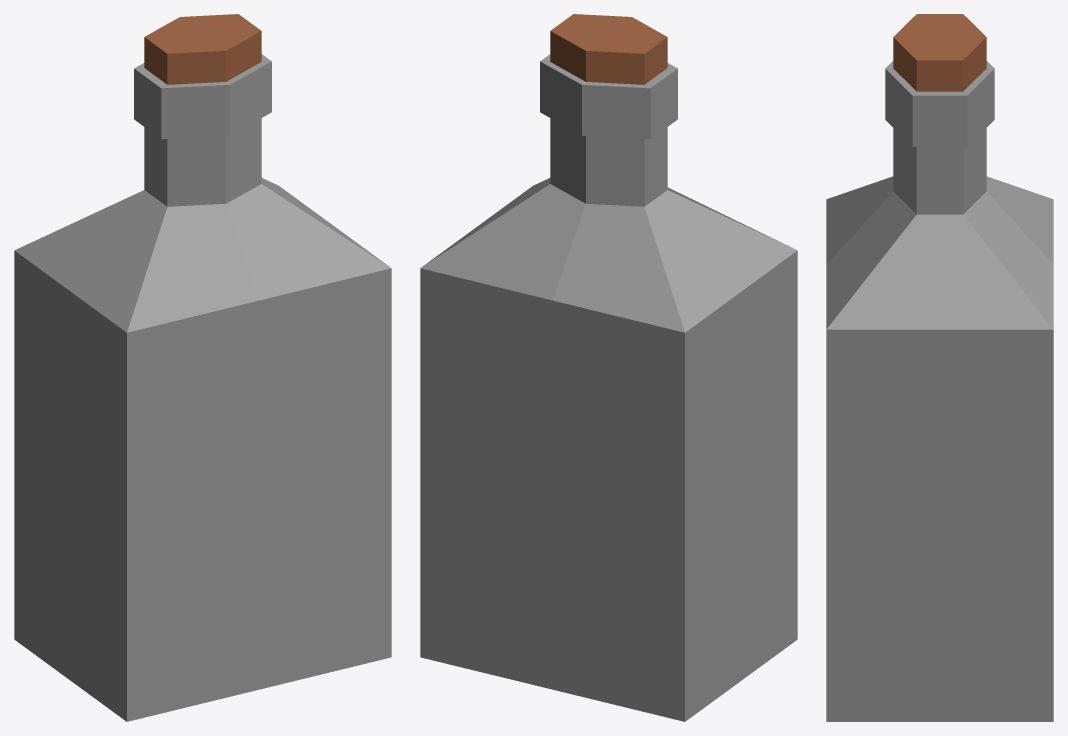
Rendered from flask_2.obj.
The picture shows the model from 3 angles, left to right: view 1: azimuth 30°, elevation 25°; view 2: azimuth 150°, elevation 25°; view 3: azimuth 270°, elevation 25°; orthographic projection.
Parts seen in each view (by area): view 1: flask_2; view 2: flask_2; view 3: flask_2.
Boxes of the visible parts, x1=… form: flask_2: x1=14, y1=14, x2=391, y2=721; flask_2: x1=420, y1=14, x2=797, y2=721; flask_2: x1=826, y1=14, x2=1053, y2=721.
Bounding box in the file's own units: 0.0735 × 0.163 × 0.0541.
